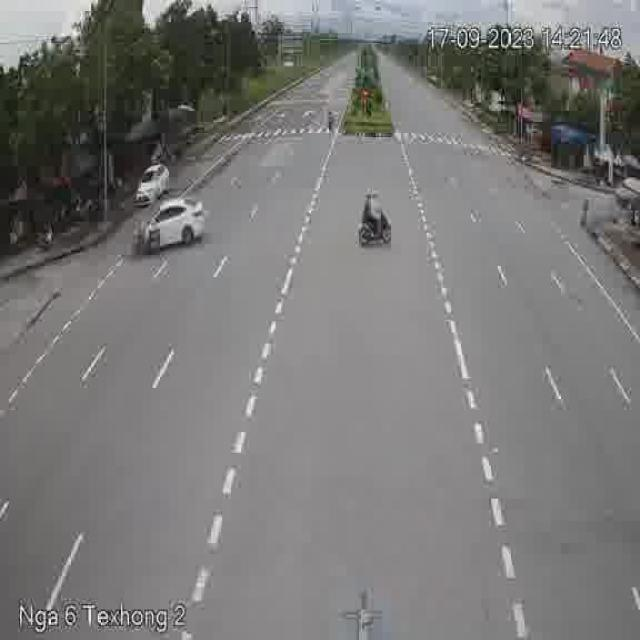multiple_accident: (125, 191, 214, 266)
